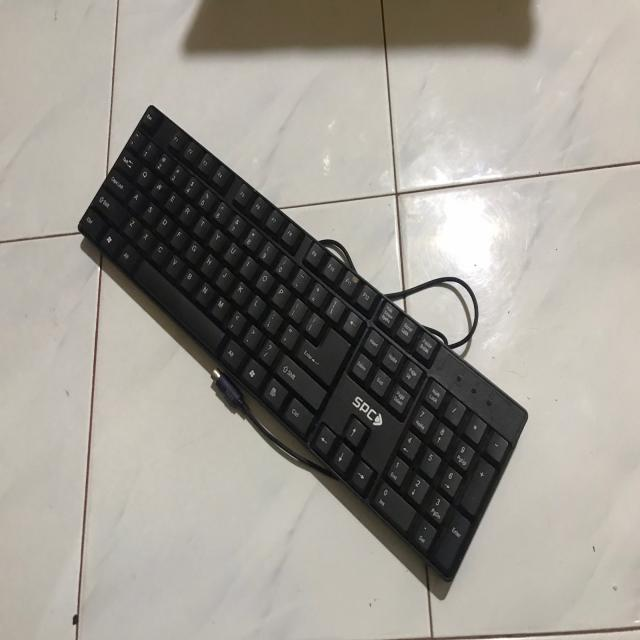-mouse-: (74, 105, 529, 583)
